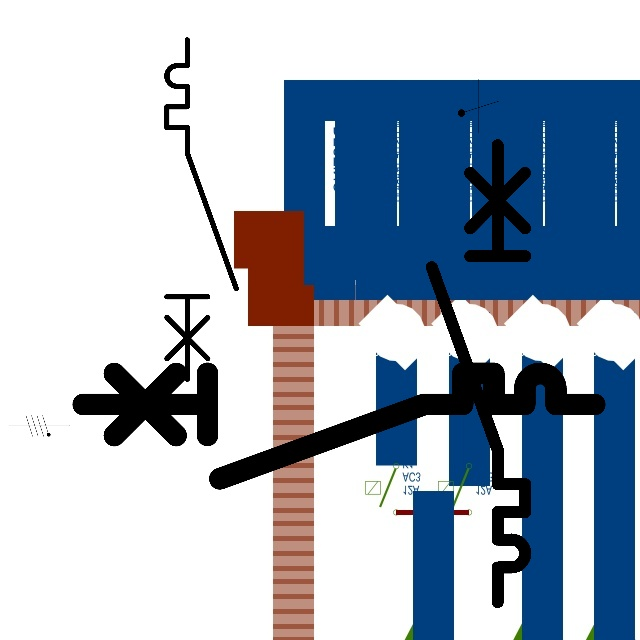interruptor_termomagnetico: (69, 360, 607, 492), (420, 133, 537, 613), (158, 31, 245, 387)
